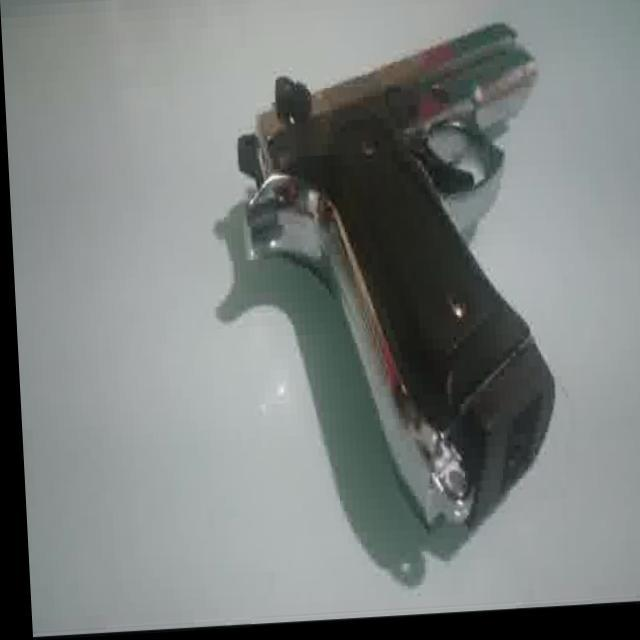weapon: (200, 24, 558, 549)
